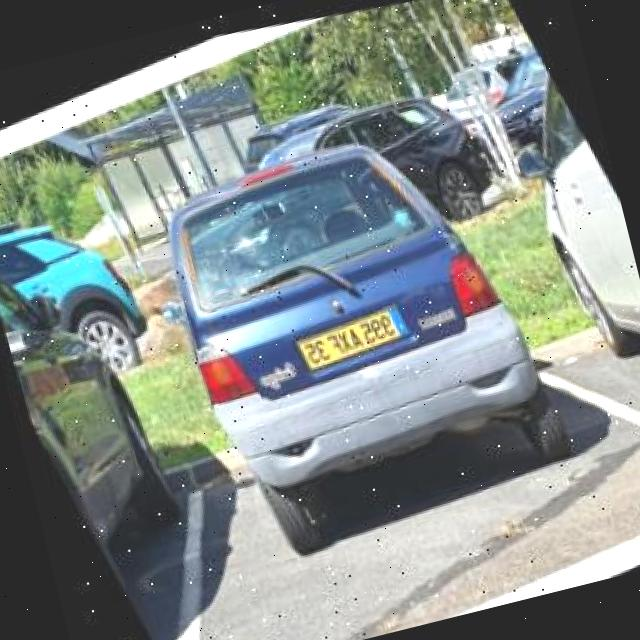Autre: (292, 301, 418, 377)
